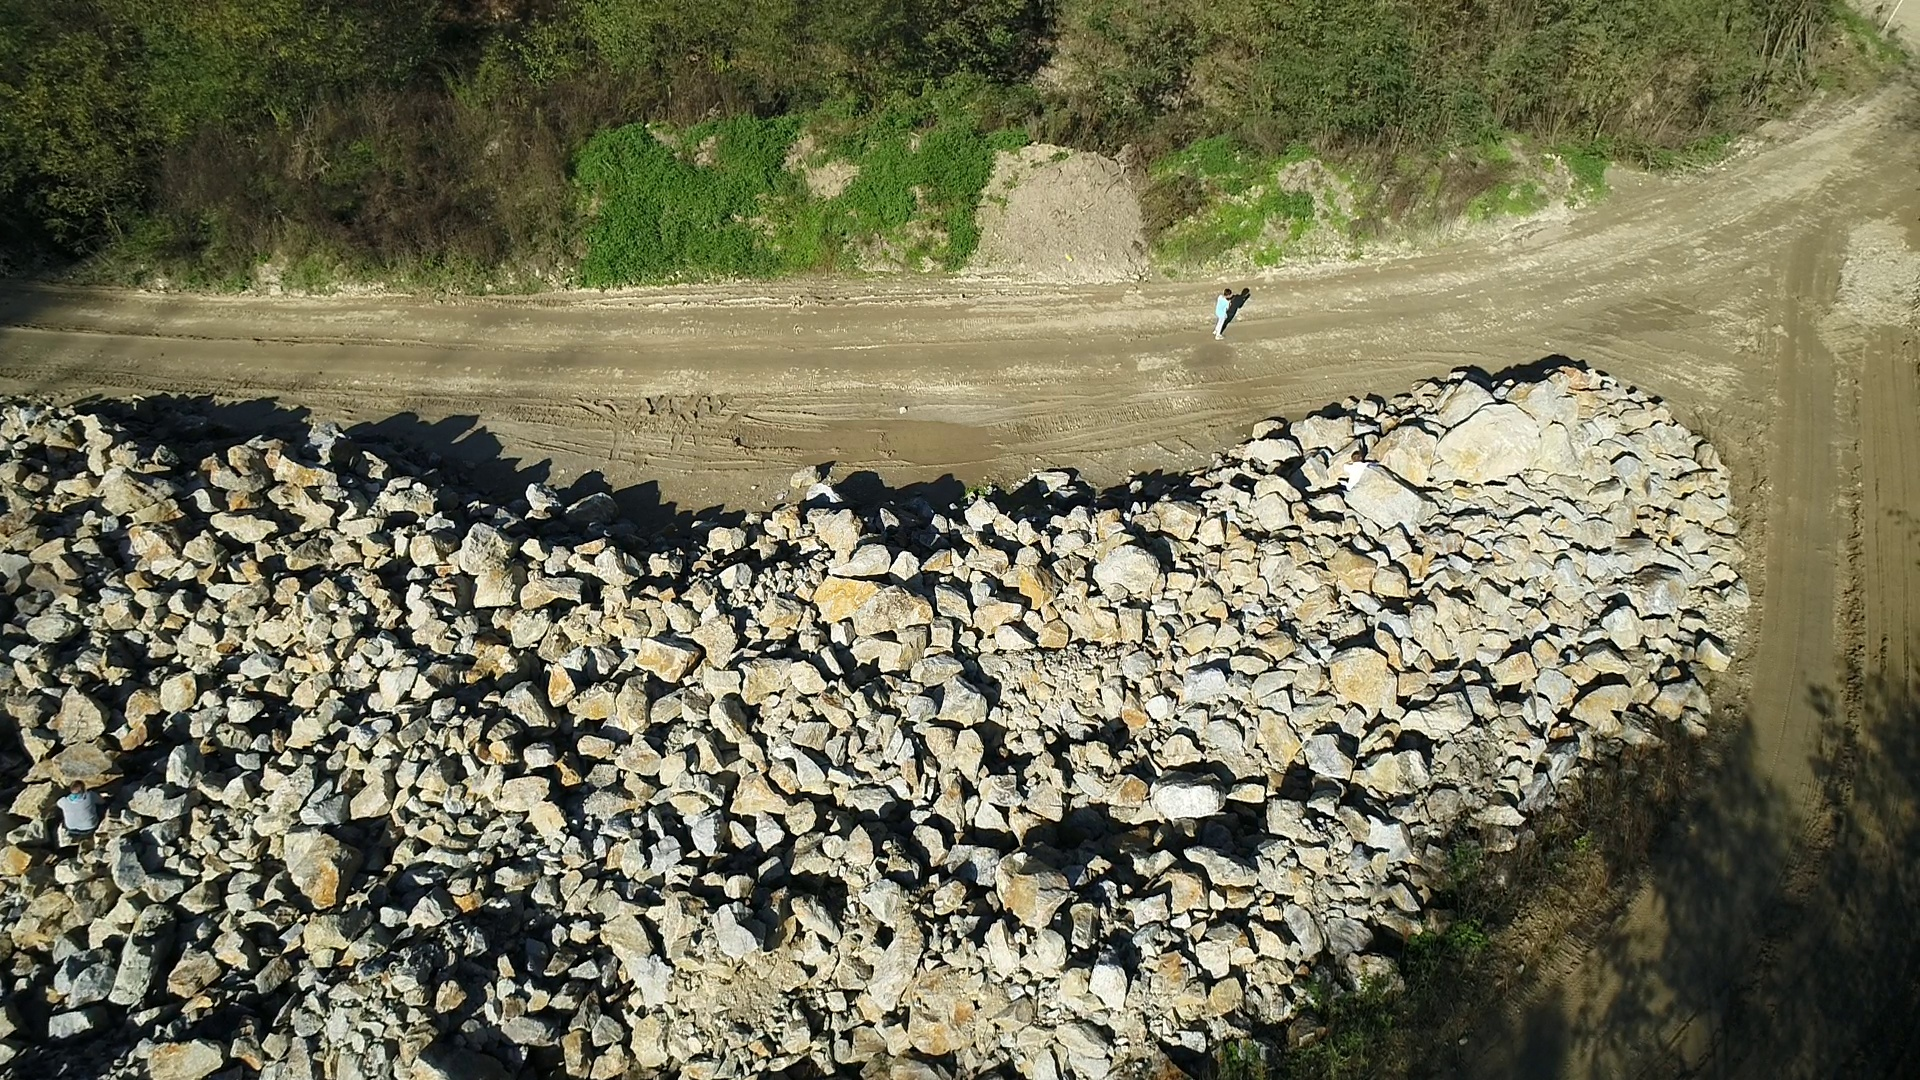person: (54, 779, 106, 838), (1336, 450, 1373, 490), (1213, 287, 1233, 339)
